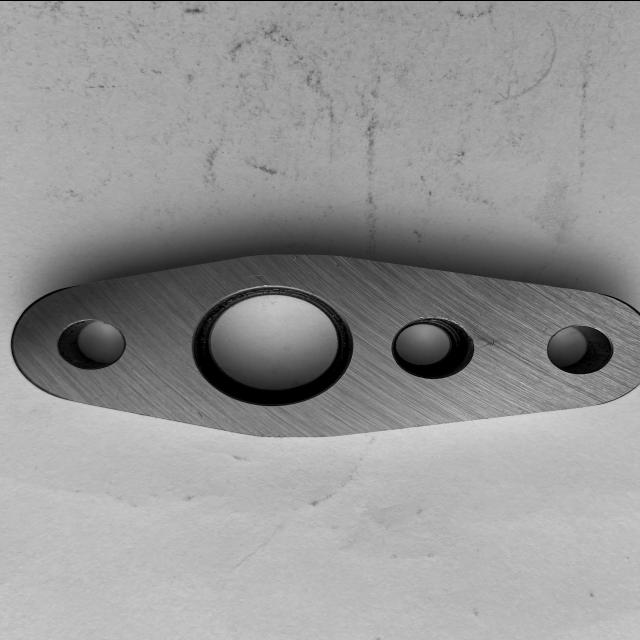lines: (476, 331, 530, 367), (547, 375, 593, 399), (194, 409, 206, 419)
